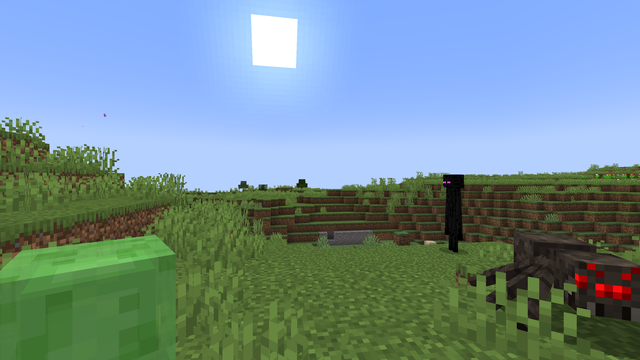araignees: (475, 227, 634, 358)
endermens: (440, 172, 465, 253)
slimes: (24, 233, 182, 359)
